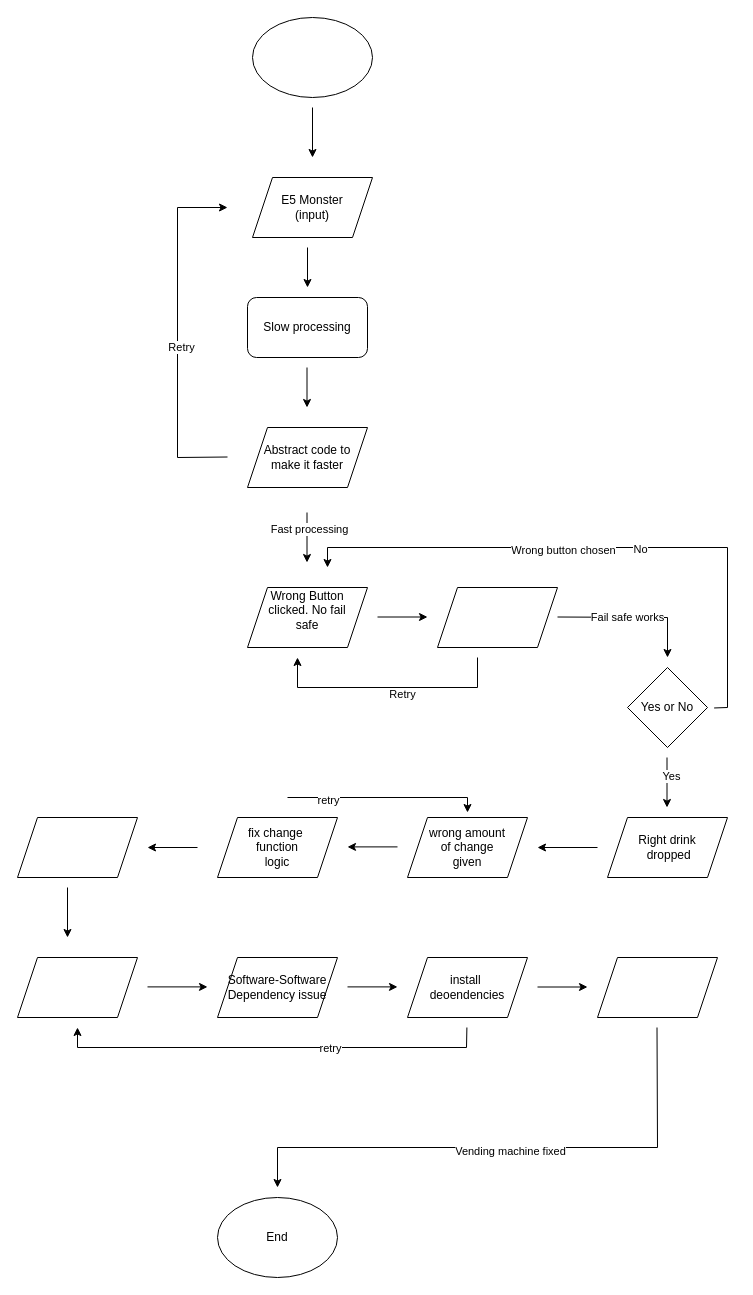
Image size: 753x1295. Some labels were removed from this diagram. Here are the shapes that lost their labels. From the top down, the centre of each, then its label:
At point 312,57: "Start".
At point 497,617: "add fail safe".
At point 77,847: "Correct amount of change given".
At point 77,987: "zero stock Does not alert".
At point 657,987: "Shows if stock is depleted".
